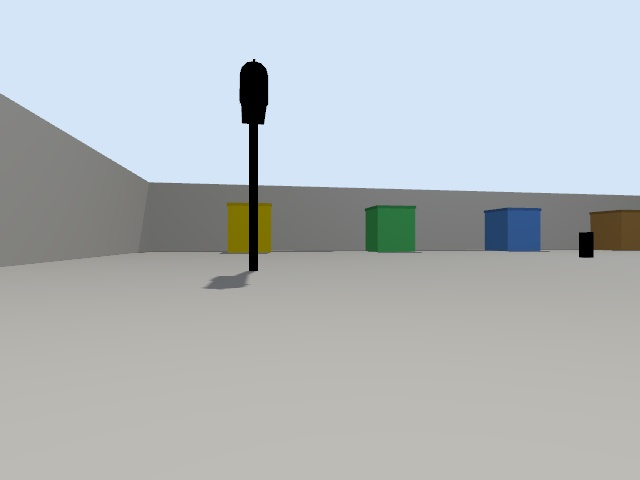boite_lettres: (239, 59, 268, 271)
bouteille_verre: (579, 232, 593, 257)
